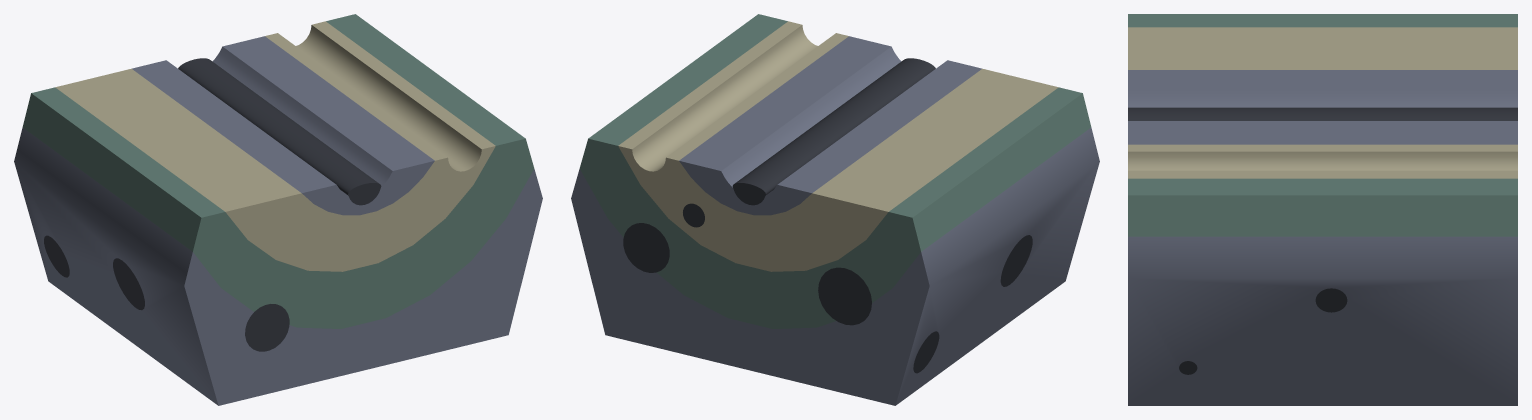
Rendered from Junk_3.fbx.
3 views of the same model, side by side, from view 1: azimuth 30°, elevation 25°; view 2: azimuth 150°, elevation 25°; view 3: azimuth 270°, elevation 25° (orthographic). The views are drawn at different scales.
Visible parts, largest first — view 1: Model; view 2: Model; view 3: Model.
Part boxes in pixels (left/top/right/bottom): Model: left=14, top=14, right=542, bottom=405; Model: left=571, top=14, right=1099, bottom=405; Model: left=1128, top=14, right=1517, bottom=405.
Bounding box in the file's own units: 52.65 × 26.99 × 43.29.
